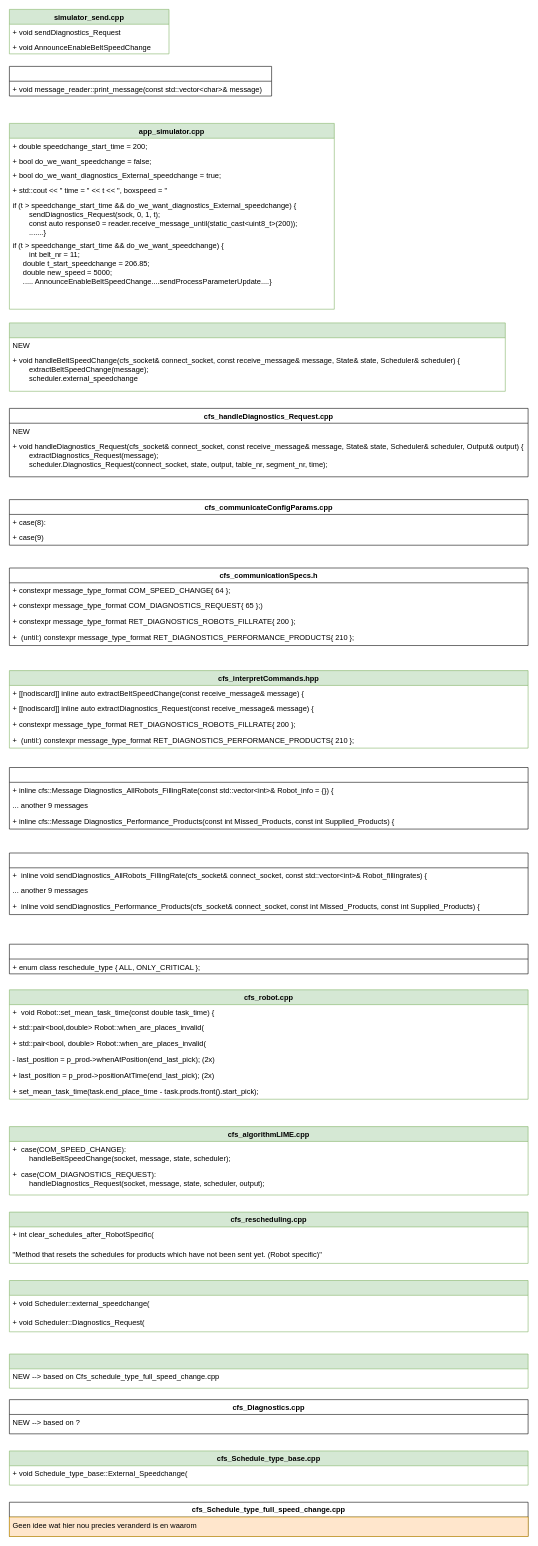
This 538x1546 diagram has some shape labels left out. The box of each missing label's shape, as (x1, y1, x2, y2) in pixels:
cfs_config.hpp: (9, 944, 528, 974)
cfs_External_belt_SpeedChange.cpp: (9, 1353, 528, 1388)
cfs_handleBeltSpeedChange.cpp: (9, 322, 505, 391)
cfs_messages.hpp: (9, 767, 528, 829)
cfs_scheduler.cpp: (9, 1280, 528, 1332)
cfs_send_messages.hpp: (9, 852, 528, 915)
Simulator_utility.cpp: (9, 66, 272, 96)
